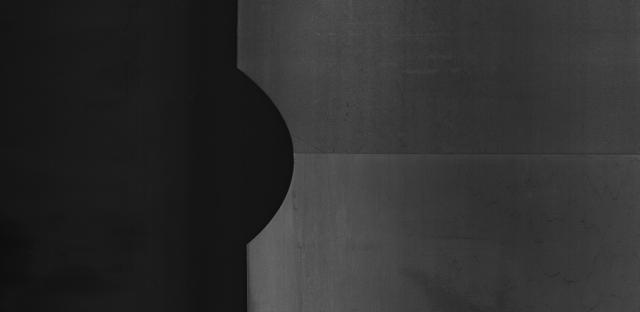crescent_gap: (208, 60, 304, 257)
welding_line: (269, 138, 639, 172)
